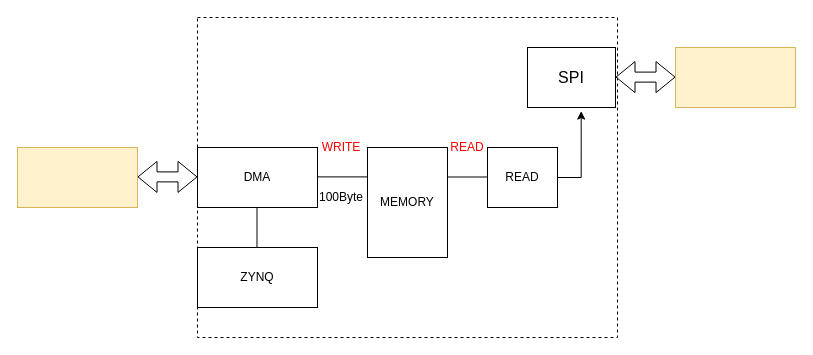
The diagram is 813 pixels wide and 355 high, and some of its shapes have lost their labels. The centre of each missing label's shape, as x and y in pixels:
DAC: point 735,77
DDR3 RAM: point 77,177
